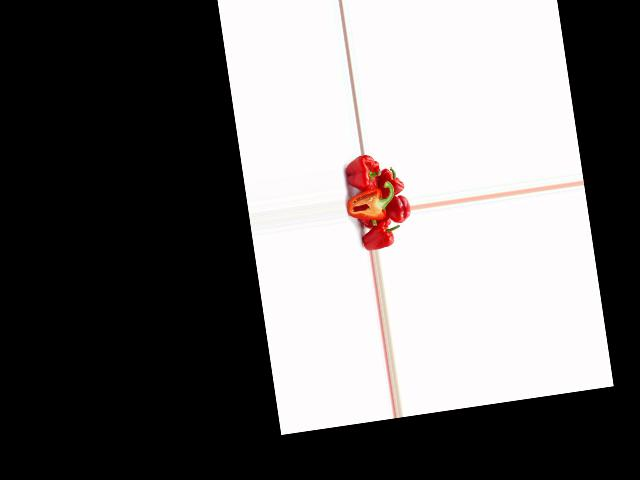bell_pepper: (377, 165, 405, 198)
